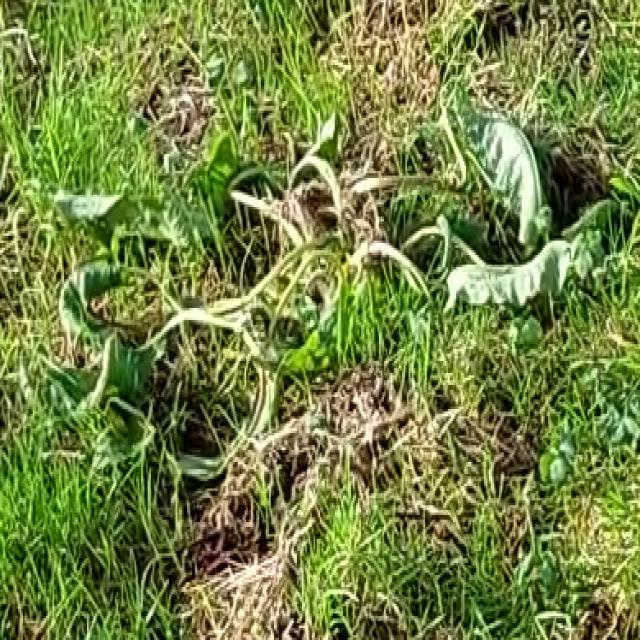organic waste: (15, 84, 599, 479)
